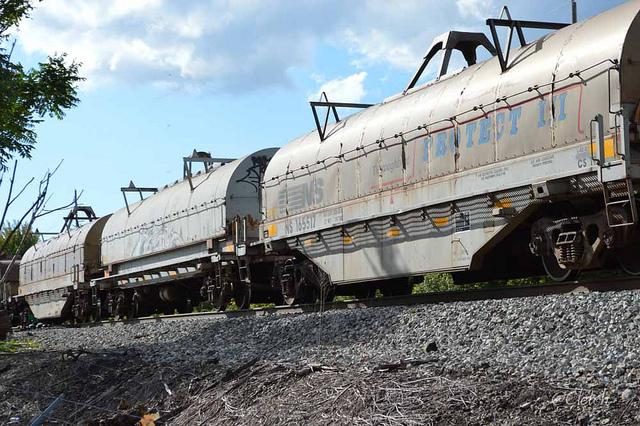Train: (10, 6, 638, 284)
